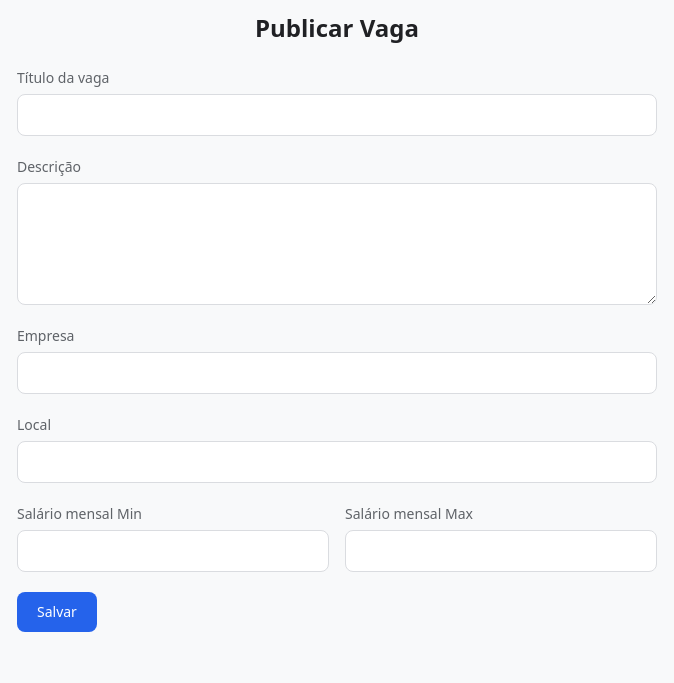
Test: JobForm › shows validation error when fields are empty
Step 1. Click the button "Salvar" → (57, 612), box [17,592,97,632]
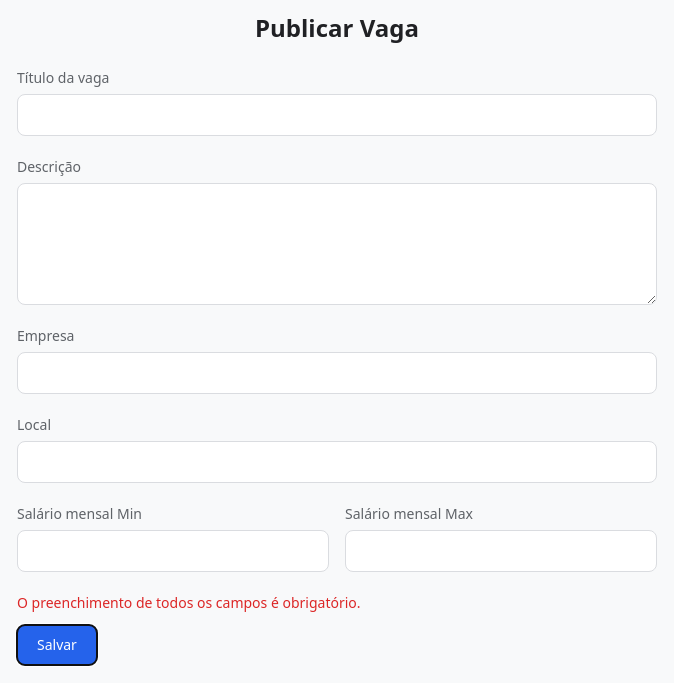
expect the text "O preenchimento de todos os campos é obrigatório." is shown: met, box [17,593,360,612]
